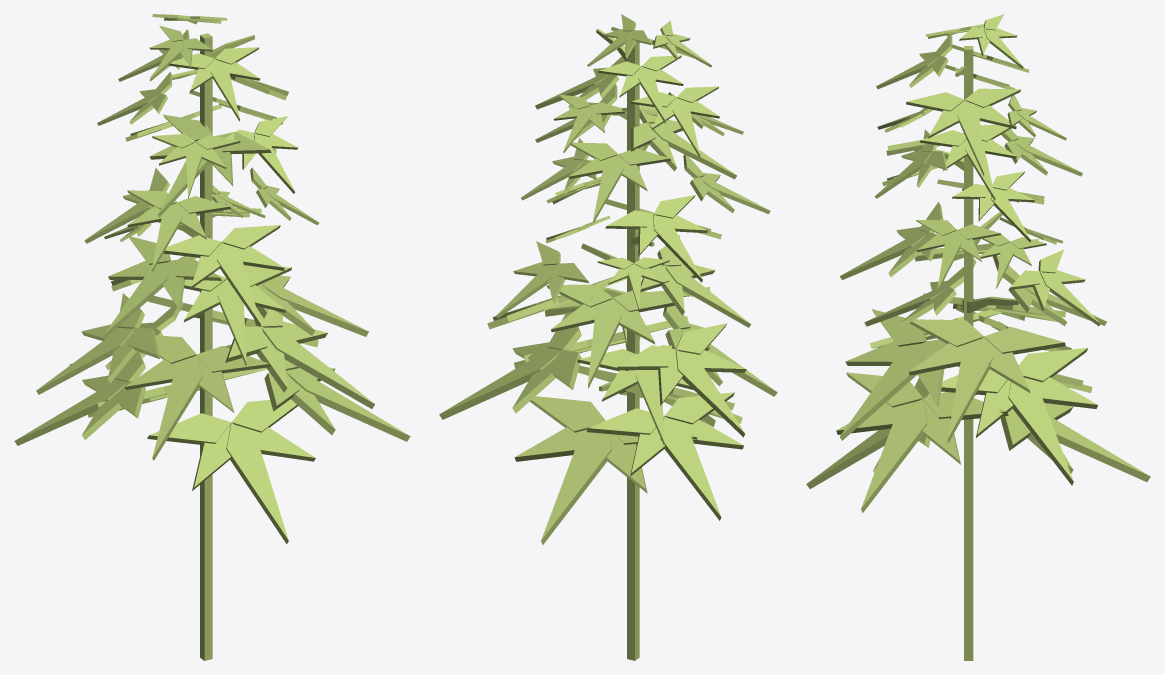
The model's file is tree.fbx.
3 views of the same model, side by side, from view 1: azimuth 30°, elevation 25°; view 2: azimuth 150°, elevation 25°; view 3: azimuth 270°, elevation 25° (orthographic).
Parts seen in each view (by area): view 1: Plane.011, Plane.007, Cube.021, Plane.012, Plane.039, Plane.009, Plane.008, Plane.021, Plane.014, Plane.017, Plane.035, Plane.027 (+10 smaller); view 2: Plane.006, Plane.009, Cube.021, Plane.014, Plane.013, Plane.010, Plane.038, Plane.034, Plane.021, Plane.018, Plane.027, Plane.020 (+15 smaller); view 3: Plane.015, Plane.010, Plane.008, Cube.021, Plane.012, Plane.028, Plane.006, Plane.020, Plane.032, Plane.033, Plane.039, Plane.036 (+10 smaller).
Part boxes in pixels (x1=…): Plane.011: x1=147, y1=399, x2=315, y2=543; Plane.007: x1=124, y1=335, x2=271, y2=460; Cube.021: x1=157, y1=33, x2=254, y2=660; Plane.012: x1=225, y1=286, x2=374, y2=408; Plane.039: x1=163, y1=225, x2=284, y2=326; Plane.009: x1=14, y1=351, x2=145, y2=445; Plane.008: x1=264, y1=359, x2=410, y2=441; Plane.021: x1=104, y1=236, x2=221, y2=337; Plane.014: x1=36, y1=293, x2=159, y2=394; Plane.017: x1=183, y1=266, x2=291, y2=366; Plane.035: x1=127, y1=190, x2=230, y2=271; Plane.027: x1=149, y1=114, x2=271, y2=217; Plane.006: x1=514, y1=396, x2=697, y2=544; Plane.009: x1=586, y1=392, x2=743, y2=520; Cube.021: x1=596, y1=29, x2=654, y2=660; Plane.014: x1=616, y1=323, x2=746, y2=437; Plane.013: x1=547, y1=284, x2=674, y2=388; Plane.010: x1=439, y1=312, x2=581, y2=419; Plane.038: x1=605, y1=195, x2=707, y2=282; Plane.034: x1=569, y1=142, x2=670, y2=222; Plane.021: x1=640, y1=235, x2=751, y2=327; Plane.018: x1=577, y1=345, x2=709, y2=444; Plane.027: x1=631, y1=105, x2=736, y2=179; Plane.020: x1=496, y1=241, x2=588, y2=318; Plane.015: x1=909, y1=319, x2=1065, y2=442; Plane.010: x1=941, y1=348, x2=1097, y2=485; Plane.008: x1=836, y1=372, x2=1008, y2=512; Cube.021: x1=919, y1=46, x2=1019, y2=660; Plane.012: x1=840, y1=309, x2=990, y2=440; Plane.028: x1=906, y1=88, x2=1020, y2=175; Plane.006: x1=1000, y1=403, x2=1150, y2=481; Plane.020: x1=1008, y1=249, x2=1100, y2=326; Plane.032: x1=920, y1=124, x2=1016, y2=200; Plane.033: x1=916, y1=220, x2=1001, y2=291; Plane.039: x1=839, y1=202, x2=943, y2=280; Plane.036: x1=952, y1=171, x2=1035, y2=242.
Size of the model in its own units: 55.55 by 116 by 57.55.
